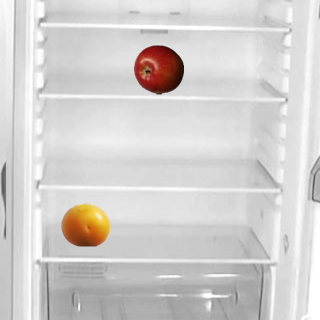Apple Braeburn: (133, 44, 183, 94)
Cherry Wax Yellow: (60, 199, 110, 249)
